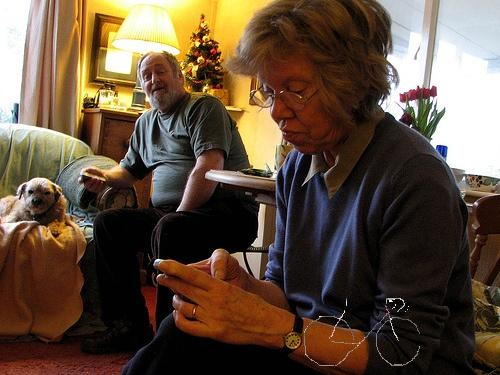tampered: (305, 299, 420, 366)
